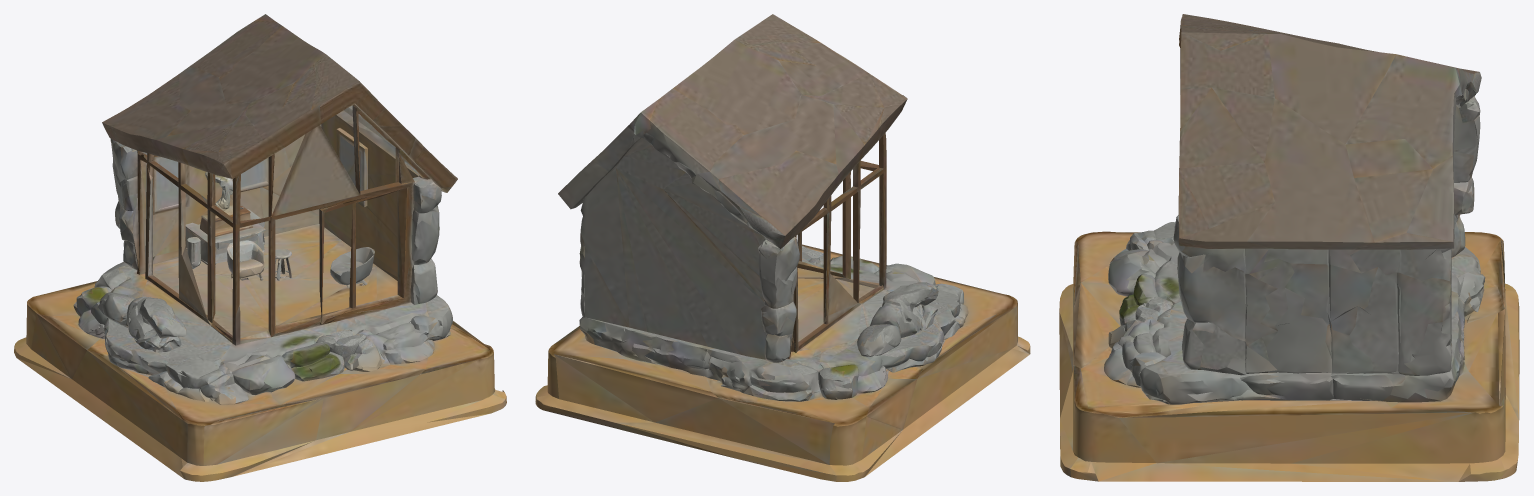
The model's file is lm_mountain_gallery.glb.
3 renders of one model, left to right at view 1: azimuth 30°, elevation 25°; view 2: azimuth 150°, elevation 25°; view 3: azimuth 270°, elevation 25°, orthographic. The views are drawn at different scales.
Bounding box in the file's own units: 1.9 × 1.75 × 1.9.
1 material, 1 textured.
